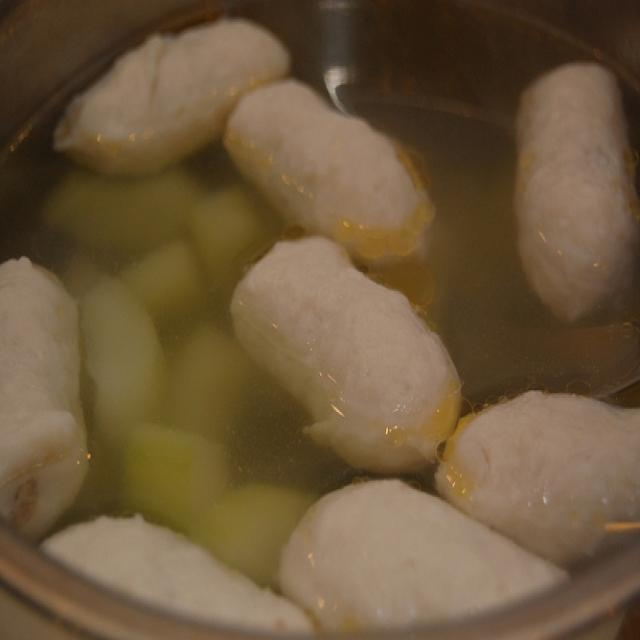熟制海鲜: (23, 17, 608, 615)
